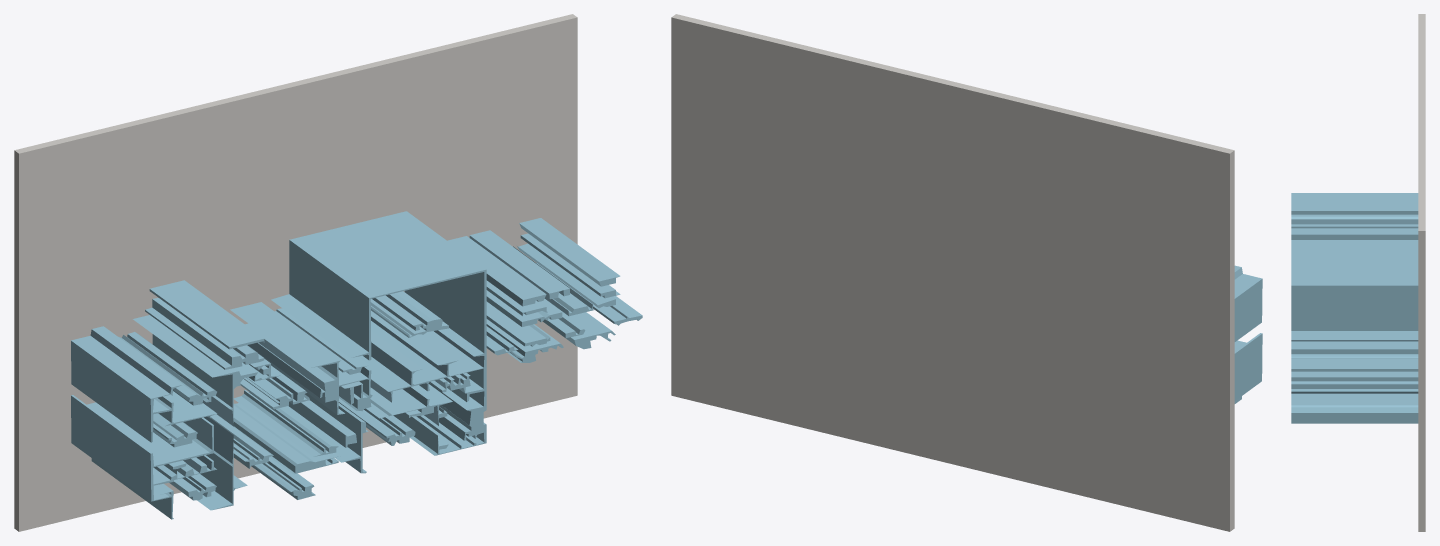
3 renders of one model, left to right at view 1: azimuth 30°, elevation 25°; view 2: azimuth 150°, elevation 25°; view 3: azimuth 270°, elevation 25°, orthographic. The views are drawn at different scales.
Parts seen in each view (by area): view 1: world; view 2: world; view 3: world.
Boxes of the visible parts, x1=… form: world: x1=14, y1=14, x2=642, y2=531; world: x1=671, y1=14, x2=1262, y2=531; world: x1=1291, y1=14, x2=1425, y2=531.
Size of the model in its own units: 10.23 by 6.62 by 2.68.
